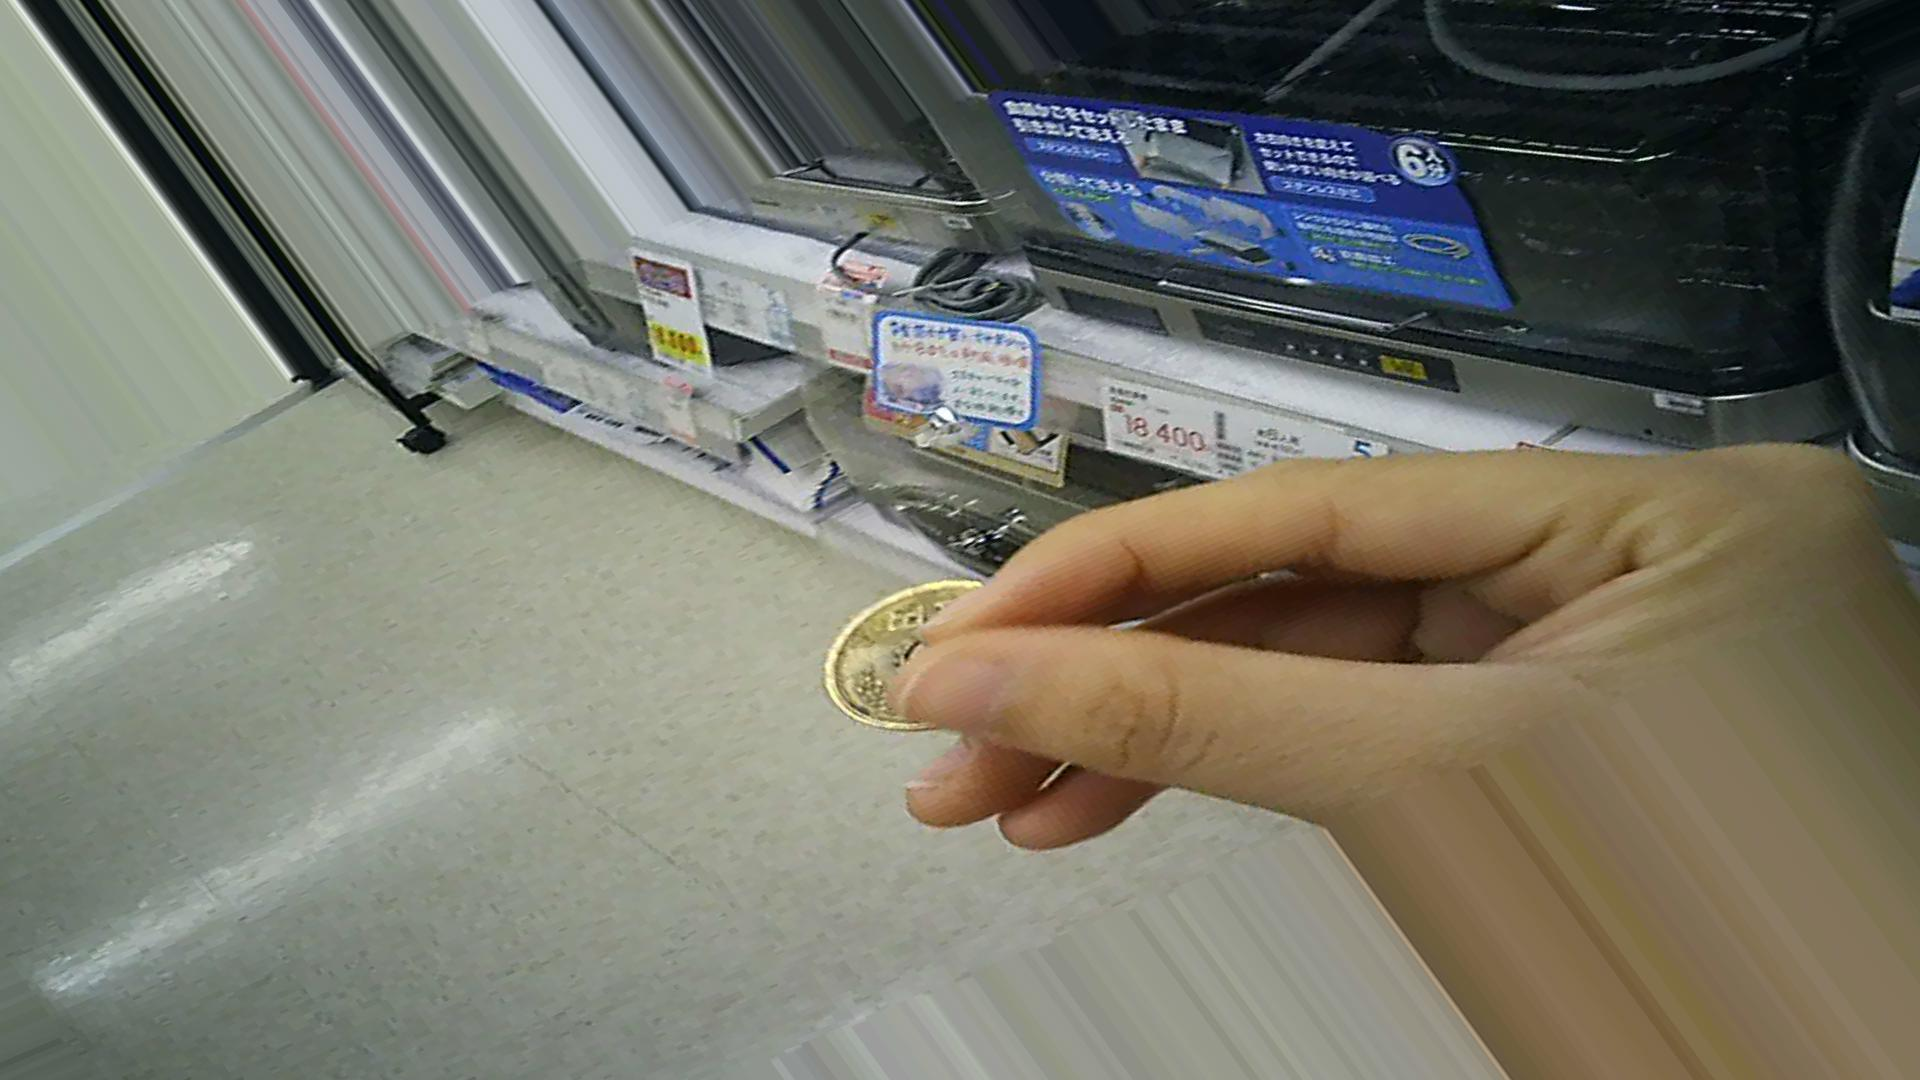5 Yen: (811, 563, 1011, 717)
